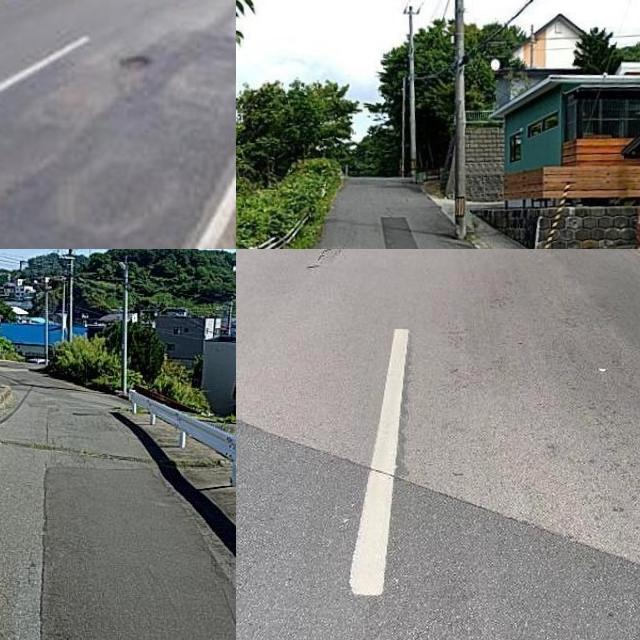Sambungan: (236, 417, 640, 640), (0, 37, 236, 249), (35, 466, 236, 640), (381, 212, 421, 249)
